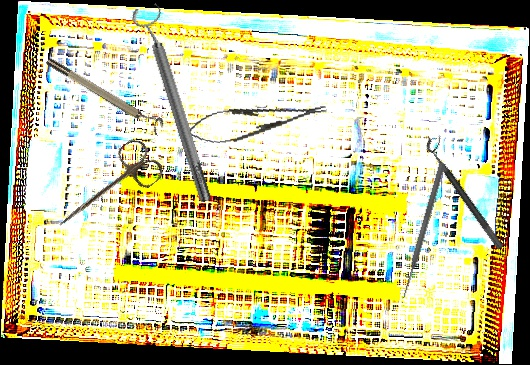Fixation Ring: (129, 1, 221, 207), (422, 132, 513, 251), (44, 51, 167, 136)
Iris Scissors: (45, 134, 168, 247)
Needle Holder: (181, 92, 330, 151)
Pusher: (399, 161, 447, 300)
